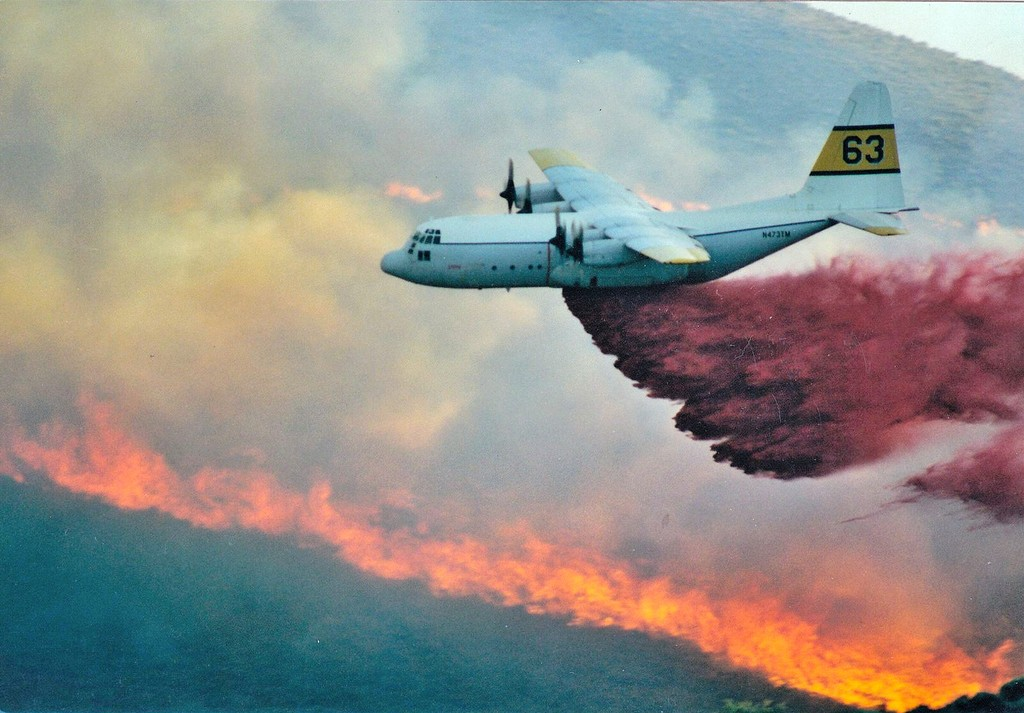Aeronef_de_service: (375, 72, 954, 312)
